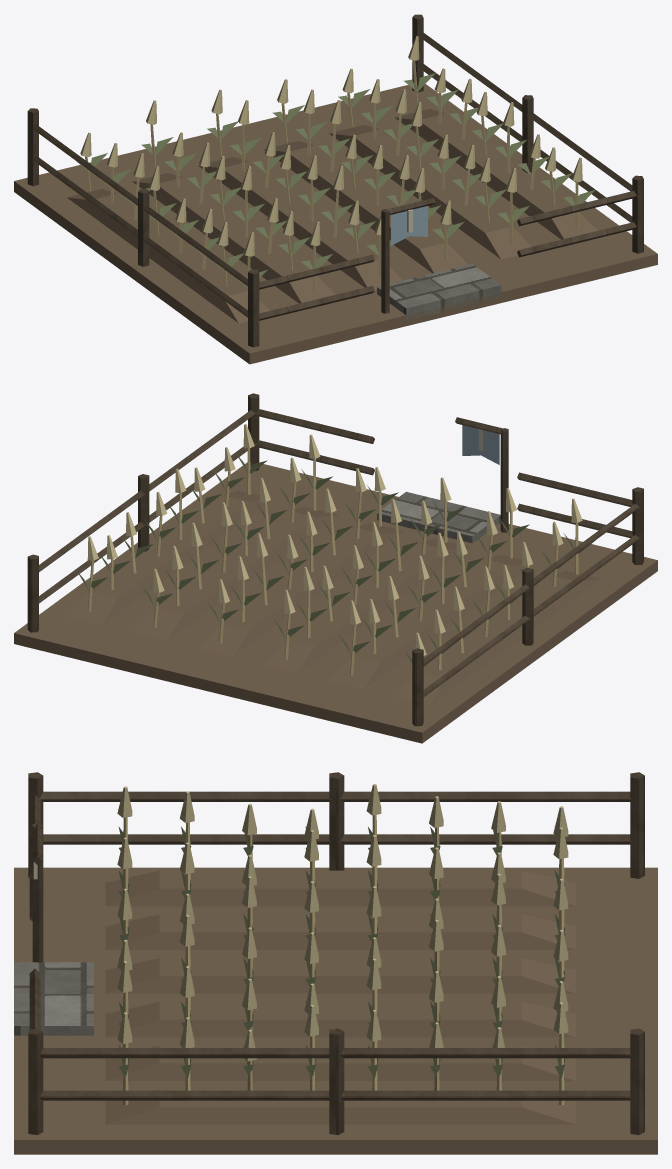
File: farm.gltf
3 views of the same model, one above another, from view 1: azimuth 30°, elevation 25°; view 2: azimuth 150°, elevation 25°; view 3: azimuth 270°, elevation 25° (orthographic). The views are drawn at different scales.
Parts seen in each view (by area): view 1: AdvancedBuilding_farm; view 2: AdvancedBuilding_farm; view 3: AdvancedBuilding_farm.
Part boxes in pixels (left/top/right/bottom): AdvancedBuilding_farm: left=14, top=14, right=657, bottom=364; AdvancedBuilding_farm: left=14, top=393, right=657, bottom=743; AdvancedBuilding_farm: left=14, top=772, right=657, bottom=1154.
Bounding box in the file's own units: 2.74 × 0.7265 × 2.74.
4 materials, 2 textured.
